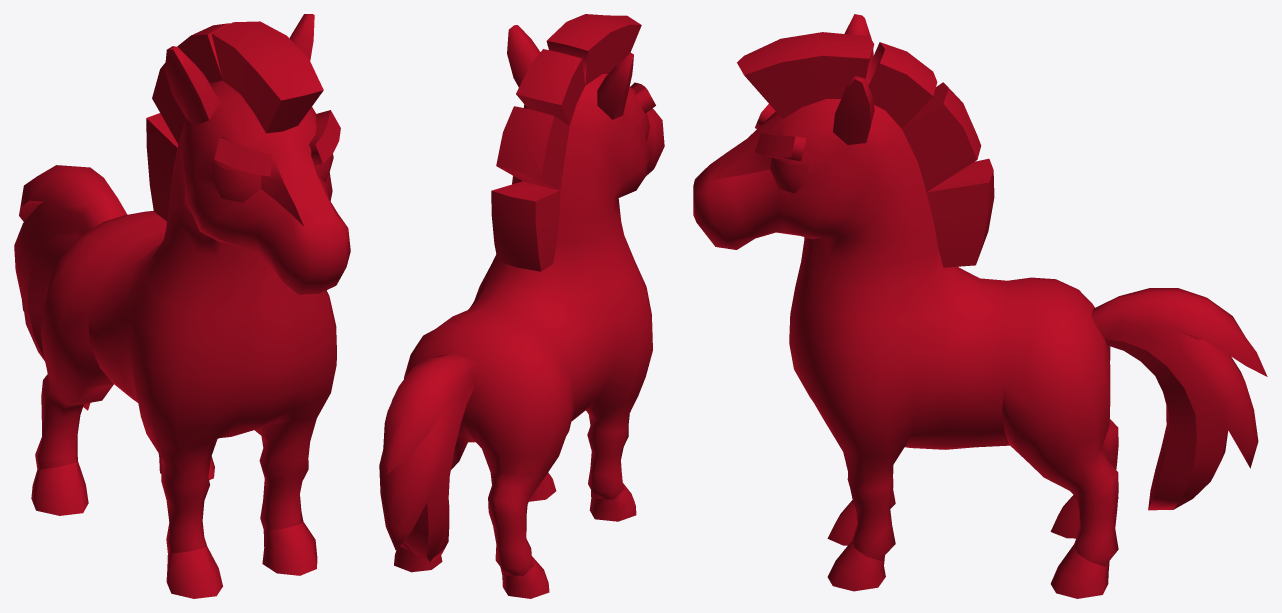
The model's file is FarmAnimals_Horse.obj.
3 views of the same model, side by side, from view 1: azimuth 30°, elevation 25°; view 2: azimuth 150°, elevation 25°; view 3: azimuth 270°, elevation 25° (orthographic). The views are drawn at different scales.
Parts seen in each view (by area): view 1: FarmAnimals_Horse; view 2: FarmAnimals_Horse; view 3: FarmAnimals_Horse.
Boxes of the visible parts, left/top/right/bottom form: FarmAnimals_Horse: left=14, top=14, right=350, bottom=598; FarmAnimals_Horse: left=379, top=14, right=664, bottom=598; FarmAnimals_Horse: left=693, top=14, right=1267, bottom=598.
Size of the model in its own units: 0.4594 by 1.3 by 1.31.
